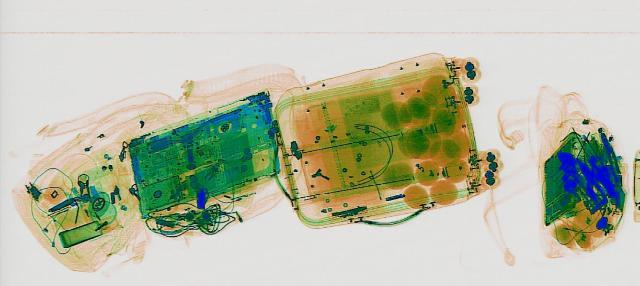Pliers: (594, 129, 620, 173)
